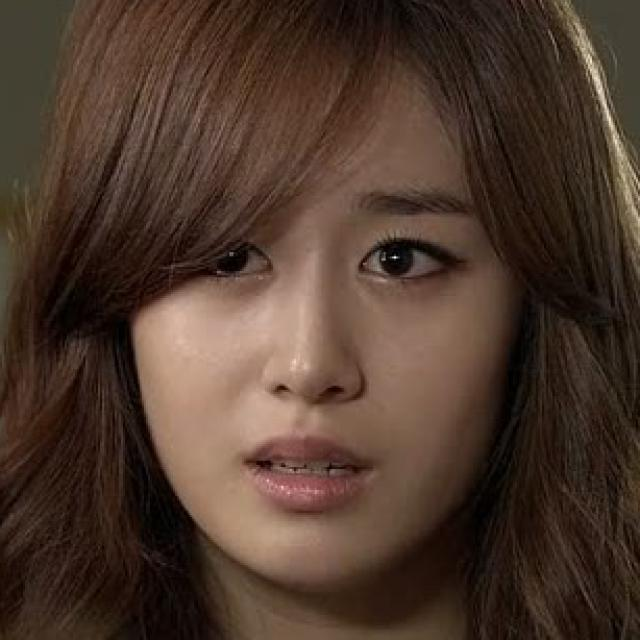Depress: (132, 55, 515, 595)
